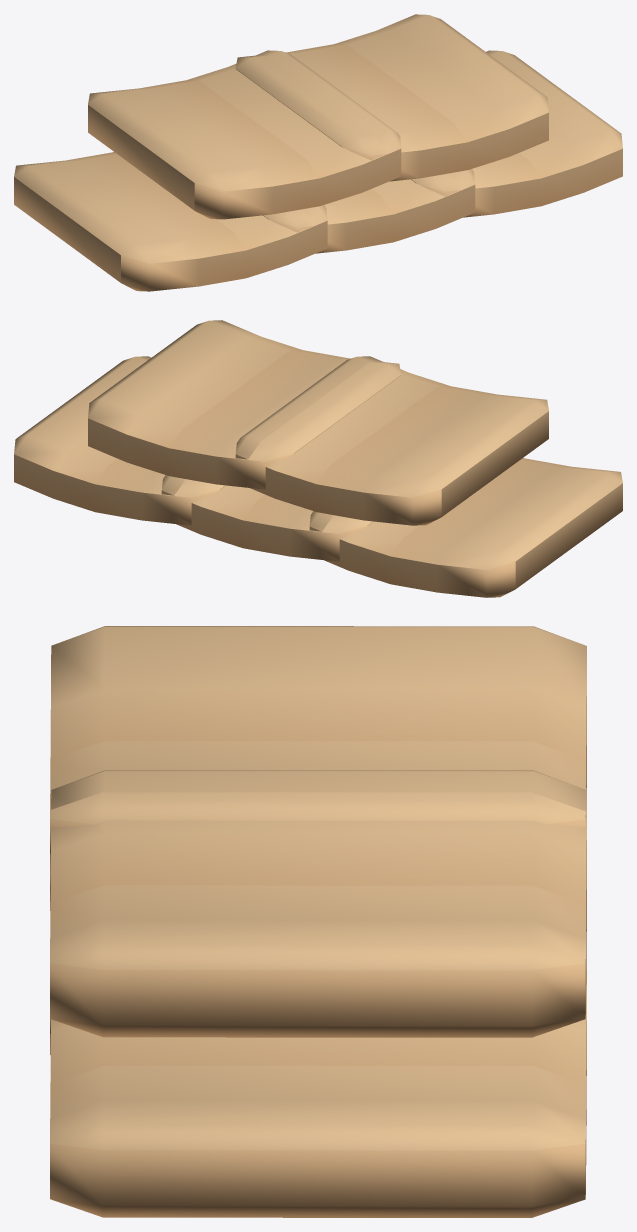
Rendered from sacos_terreros.glb.
3 views of the same model, one above another, from view 1: azimuth 30°, elevation 25°; view 2: azimuth 150°, elevation 25°; view 3: azimuth 270°, elevation 25° (orthographic). The views are drawn at different scales.
Parts seen in each view (by area): view 1: sack.003, sack.004, sack, sack.002, sack.001; view 2: sack.003, sack.004, sack, sack.002, sack.001; view 3: sack.004, sack.002, sack.003.
Part boxes in pixels (x1=…): sack.003: x1=88, y1=50, x2=401, y2=219; sack.004: x1=235, y1=14, x2=548, y2=181; sack: x1=14, y1=152, x2=327, y2=291; sack.002: x1=411, y1=50, x2=622, y2=217; sack.001: x1=263, y1=169, x2=475, y2=253; sack.003: x1=235, y1=356, x2=548, y2=525; sack.004: x1=88, y1=320, x2=401, y2=489; sack: x1=309, y1=458, x2=622, y2=597; sack.002: x1=14, y1=356, x2=225, y2=525; sack.001: x1=161, y1=475, x2=373, y2=561; sack.004: x1=50, y1=770, x2=586, y2=1037; sack.002: x1=50, y1=970, x2=586, y2=1217; sack.003: x1=50, y1=626, x2=586, y2=874.
Size of the model in its own units: 2.71 by 0.5725 by 1.26.
5 materials, 5 textured.
